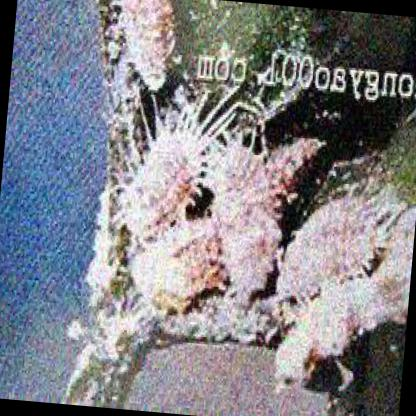mealy bug: (109, 89, 239, 236), (275, 194, 391, 300), (124, 217, 221, 311), (214, 202, 282, 301), (121, 0, 175, 92), (205, 131, 269, 205)
